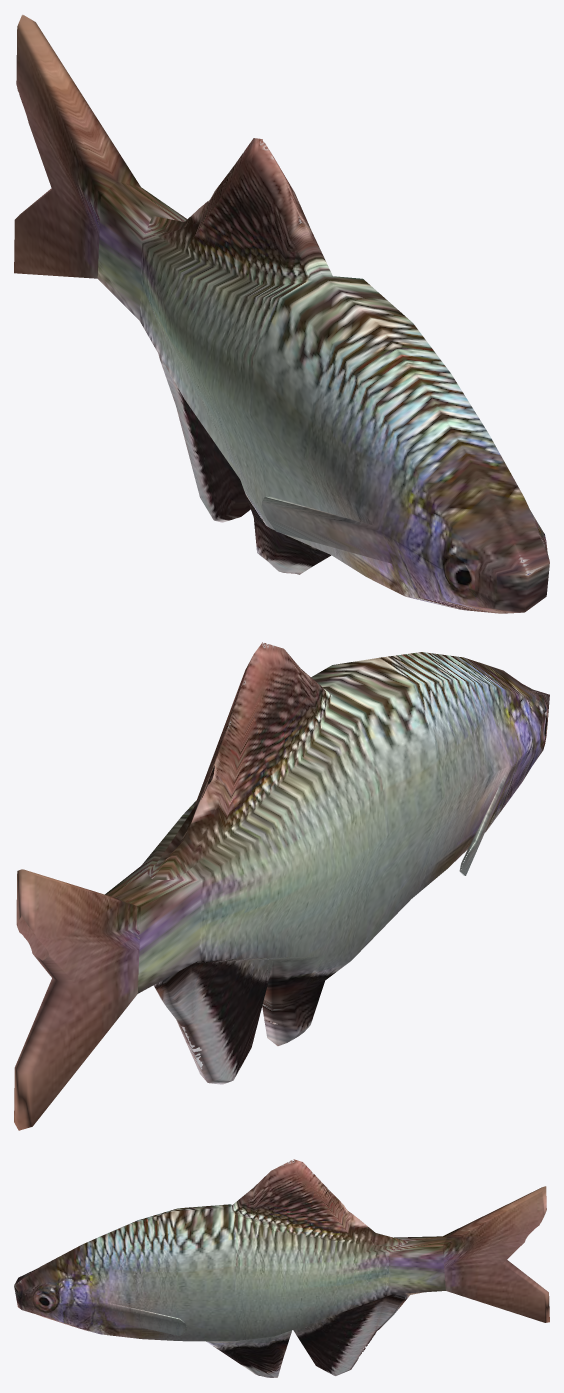
The model's file is sebositabira_model.fbx.
3 views of the same model, one above another, from view 1: azimuth 30°, elevation 25°; view 2: azimuth 150°, elevation 25°; view 3: azimuth 270°, elevation 25° (orthographic). The views are drawn at different scales.
Visible parts, largest first — view 1: pCube1; view 2: pCube1; view 3: pCube1.
Part boxes in pixels (box(x1,y1,x2,y2)): pCube1: box(14, 14, 549, 613); pCube1: box(14, 642, 549, 1130); pCube1: box(14, 1159, 549, 1377).
Size of the model in its own units: 1.04 by 1.94 by 4.29.
